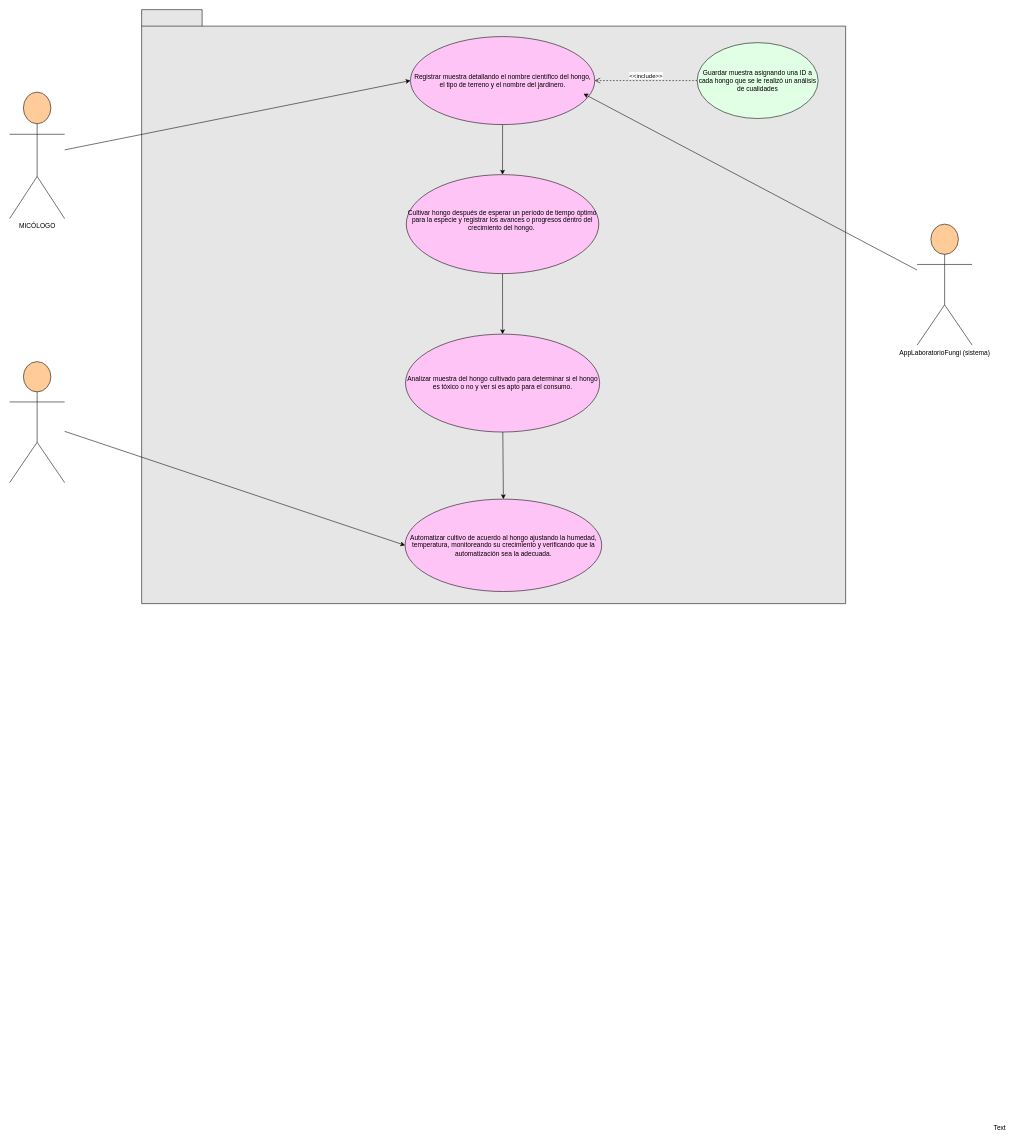
The diagram is 1023 pixels wide and 1146 high, and some of its shapes have lost their labels. Here are the shapes that lost their labels. From the top down, the box of each, then its label:
(141, 9, 846, 604): ReinoFungi
(9, 361, 65, 483): JARDINERO
